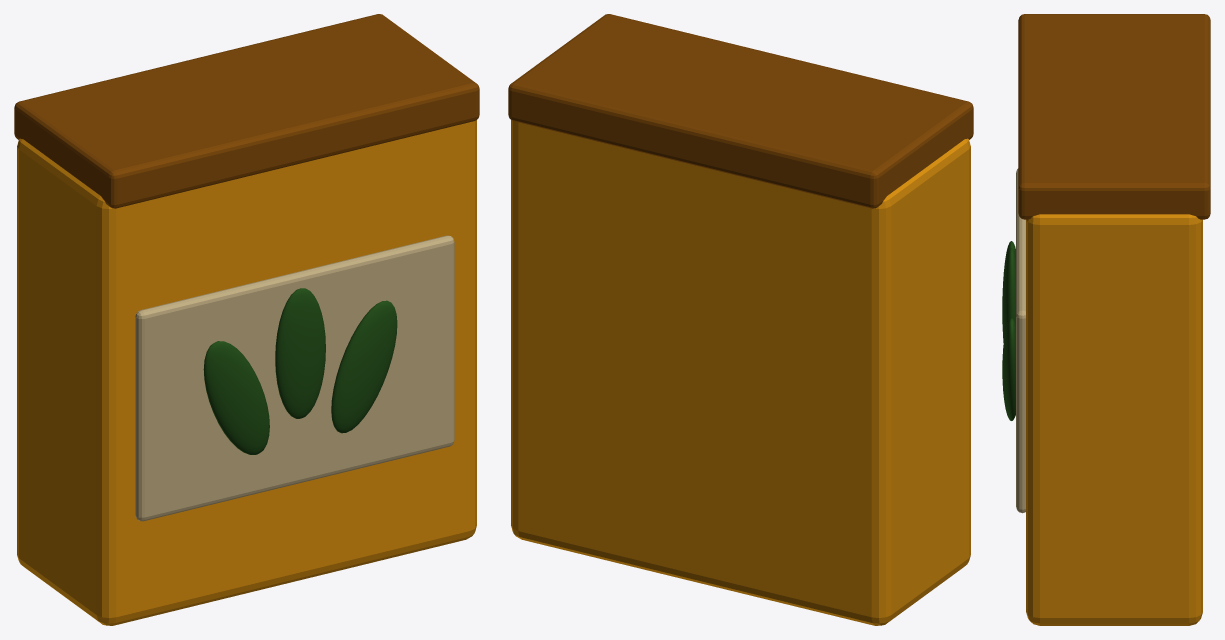
File: YerbaMedia3D.fbx
3 views of the same model, side by side, from view 1: azimuth 30°, elevation 25°; view 2: azimuth 150°, elevation 25°; view 3: azimuth 270°, elevation 25° (orthographic). The views are drawn at different scales.
Visible parts, largest first — view 1: YerbaMedia3D; view 2: YerbaMedia3D; view 3: YerbaMedia3D.
Part boxes in pixels (x1=…): YerbaMedia3D: x1=14, y1=14, x2=479, y2=625; YerbaMedia3D: x1=508, y1=14, x2=973, y2=625; YerbaMedia3D: x1=1002, y1=14, x2=1210, y2=625.
Bounding box in the file's own units: 27.3 × 31.8 × 13.55.
